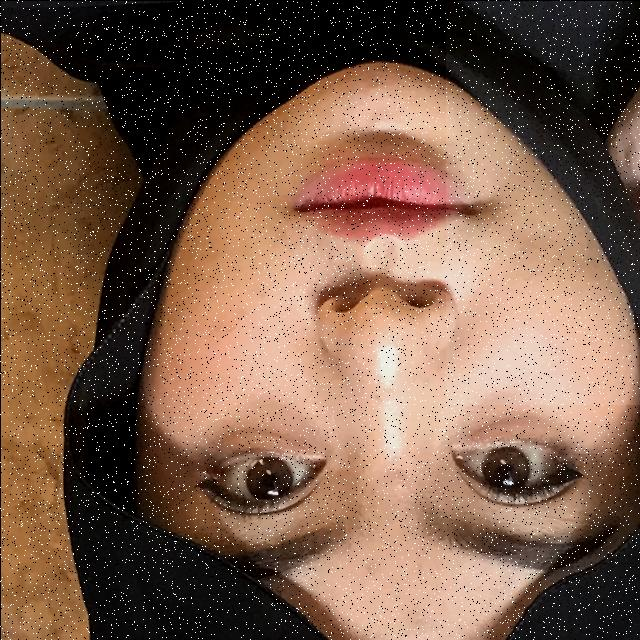ibu: (445, 0, 640, 404)
